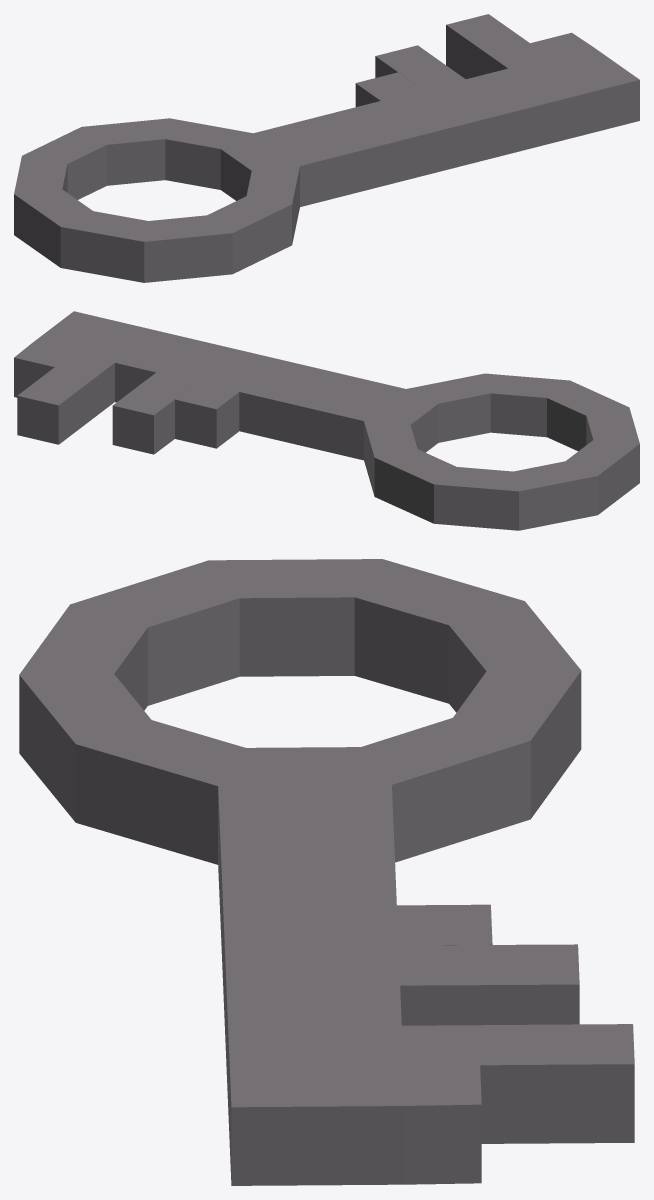
Rendered from key02.gltf.
3 views of the same model, one above another, from view 1: azimuth 30°, elevation 25°; view 2: azimuth 150°, elevation 25°; view 3: azimuth 270°, elevation 25° (orthographic). The views are drawn at different scales.
Visible parts, largest first — view 1: Cylinder; view 2: Cylinder; view 3: Cylinder.
Boxes of the visible parts, x1=… form: Cylinder: x1=14, y1=14, x2=639, y2=282; Cylinder: x1=14, y1=311, x2=639, y2=530; Cylinder: x1=19, y1=559, x2=634, y2=1185.
Bounding box in the file's own units: 0.1228 × 0.00822 × 0.0583.
1 material, 1 textured.
